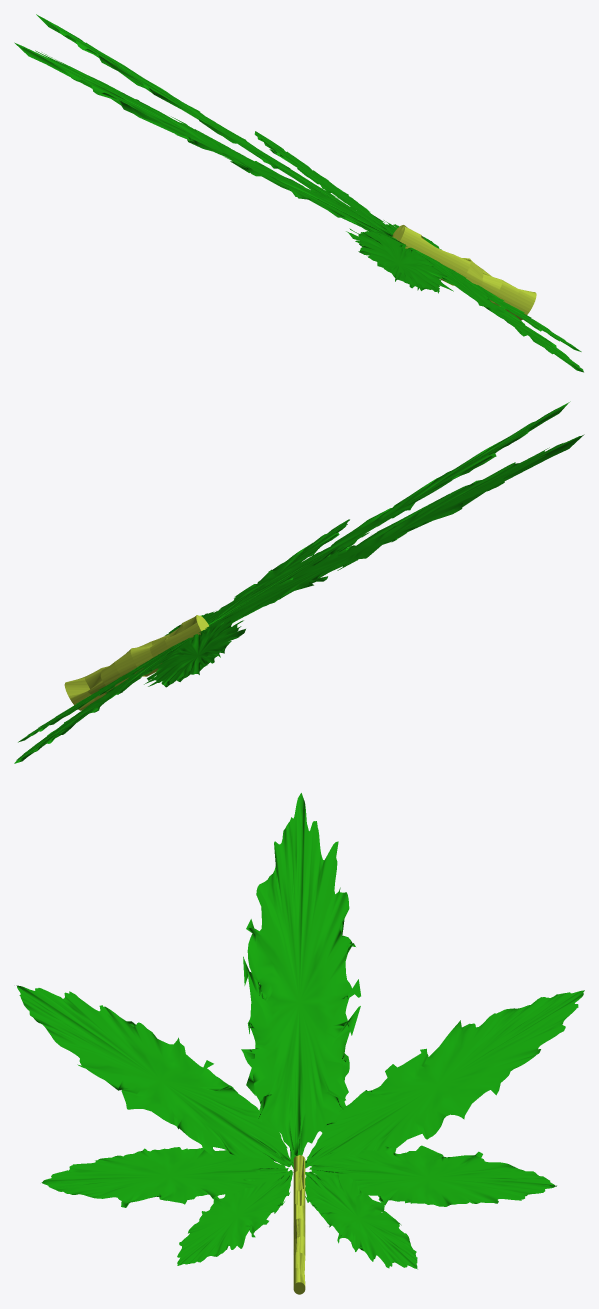
The model's file is Cannabis.fbx.
3 views of the same model, one above another, from view 1: azimuth 30°, elevation 25°; view 2: azimuth 150°, elevation 25°; view 3: azimuth 270°, elevation 25° (orthographic). The views are drawn at different scales.
Visible parts, largest first — view 1: Cylinder; view 2: Cylinder; view 3: Cylinder.
Part boxes in pixels (x1=…): Cylinder: x1=14, y1=14, x2=583, y2=372; Cylinder: x1=14, y1=401, x2=584, y2=763; Cylinder: x1=16, y1=793, x2=584, y2=1294.
Bounding box in the file's own units: 1.17 × 0.859 × 1.43.
